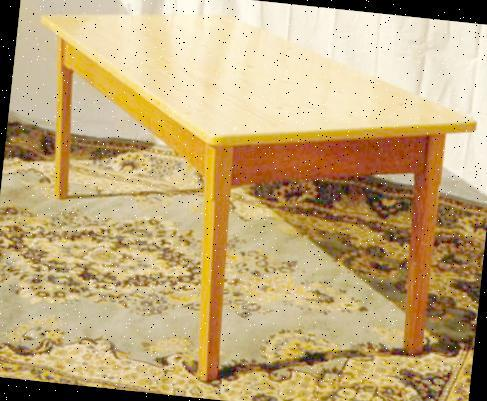Mesa: (6, 0, 486, 400)
